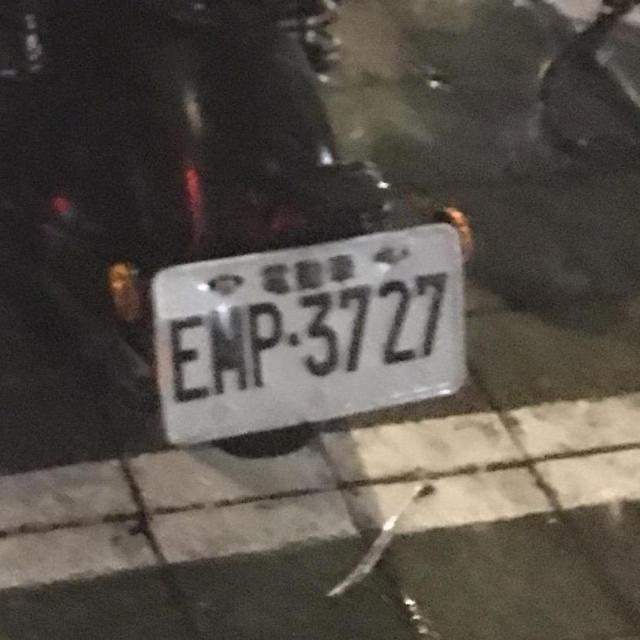W: (144, 222, 472, 452)
